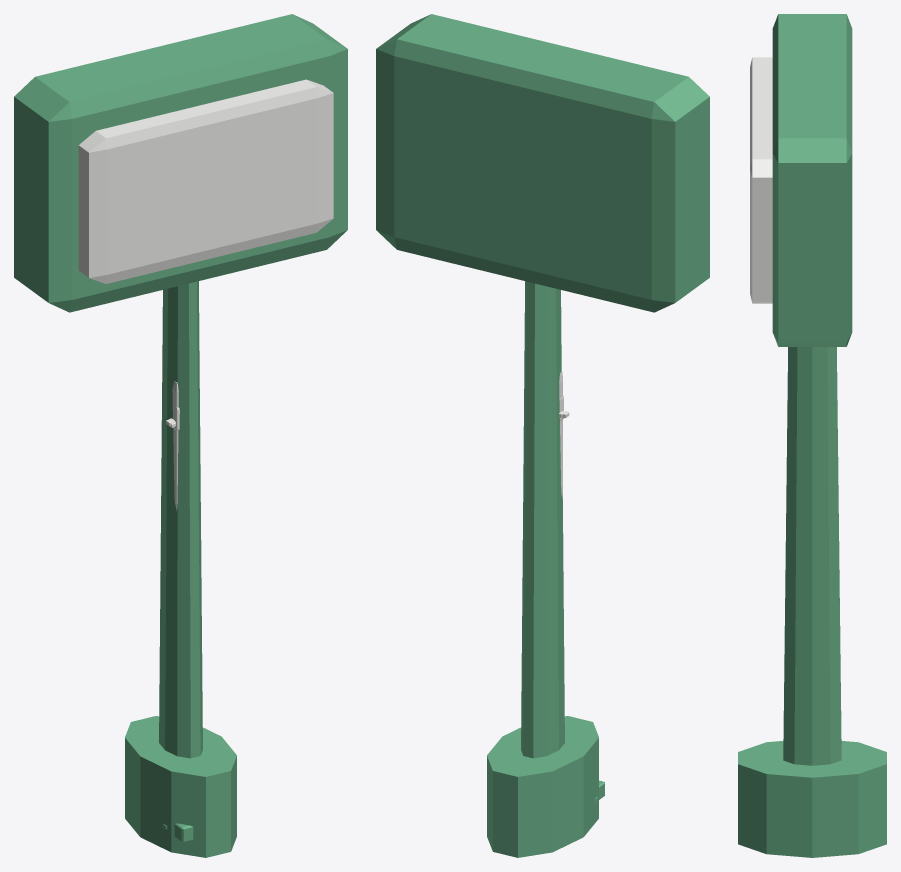
File: b02_dual_parking_meter.glb
3 views of the same model, side by side, from view 1: azimuth 30°, elevation 25°; view 2: azimuth 150°, elevation 25°; view 3: azimuth 270°, elevation 25° (orthographic).
Visible parts, largest first — view 1: b02_dual_parking_meter; view 2: b02_dual_parking_meter; view 3: b02_dual_parking_meter.
Boxes of the visible parts, x1,y1,x2,y2 form: b02_dual_parking_meter: (14,14,347,857); b02_dual_parking_meter: (376,14,709,857); b02_dual_parking_meter: (738,14,886,857).
Bounding box in the file's own units: 0.69 × 1.7 × 0.3.
